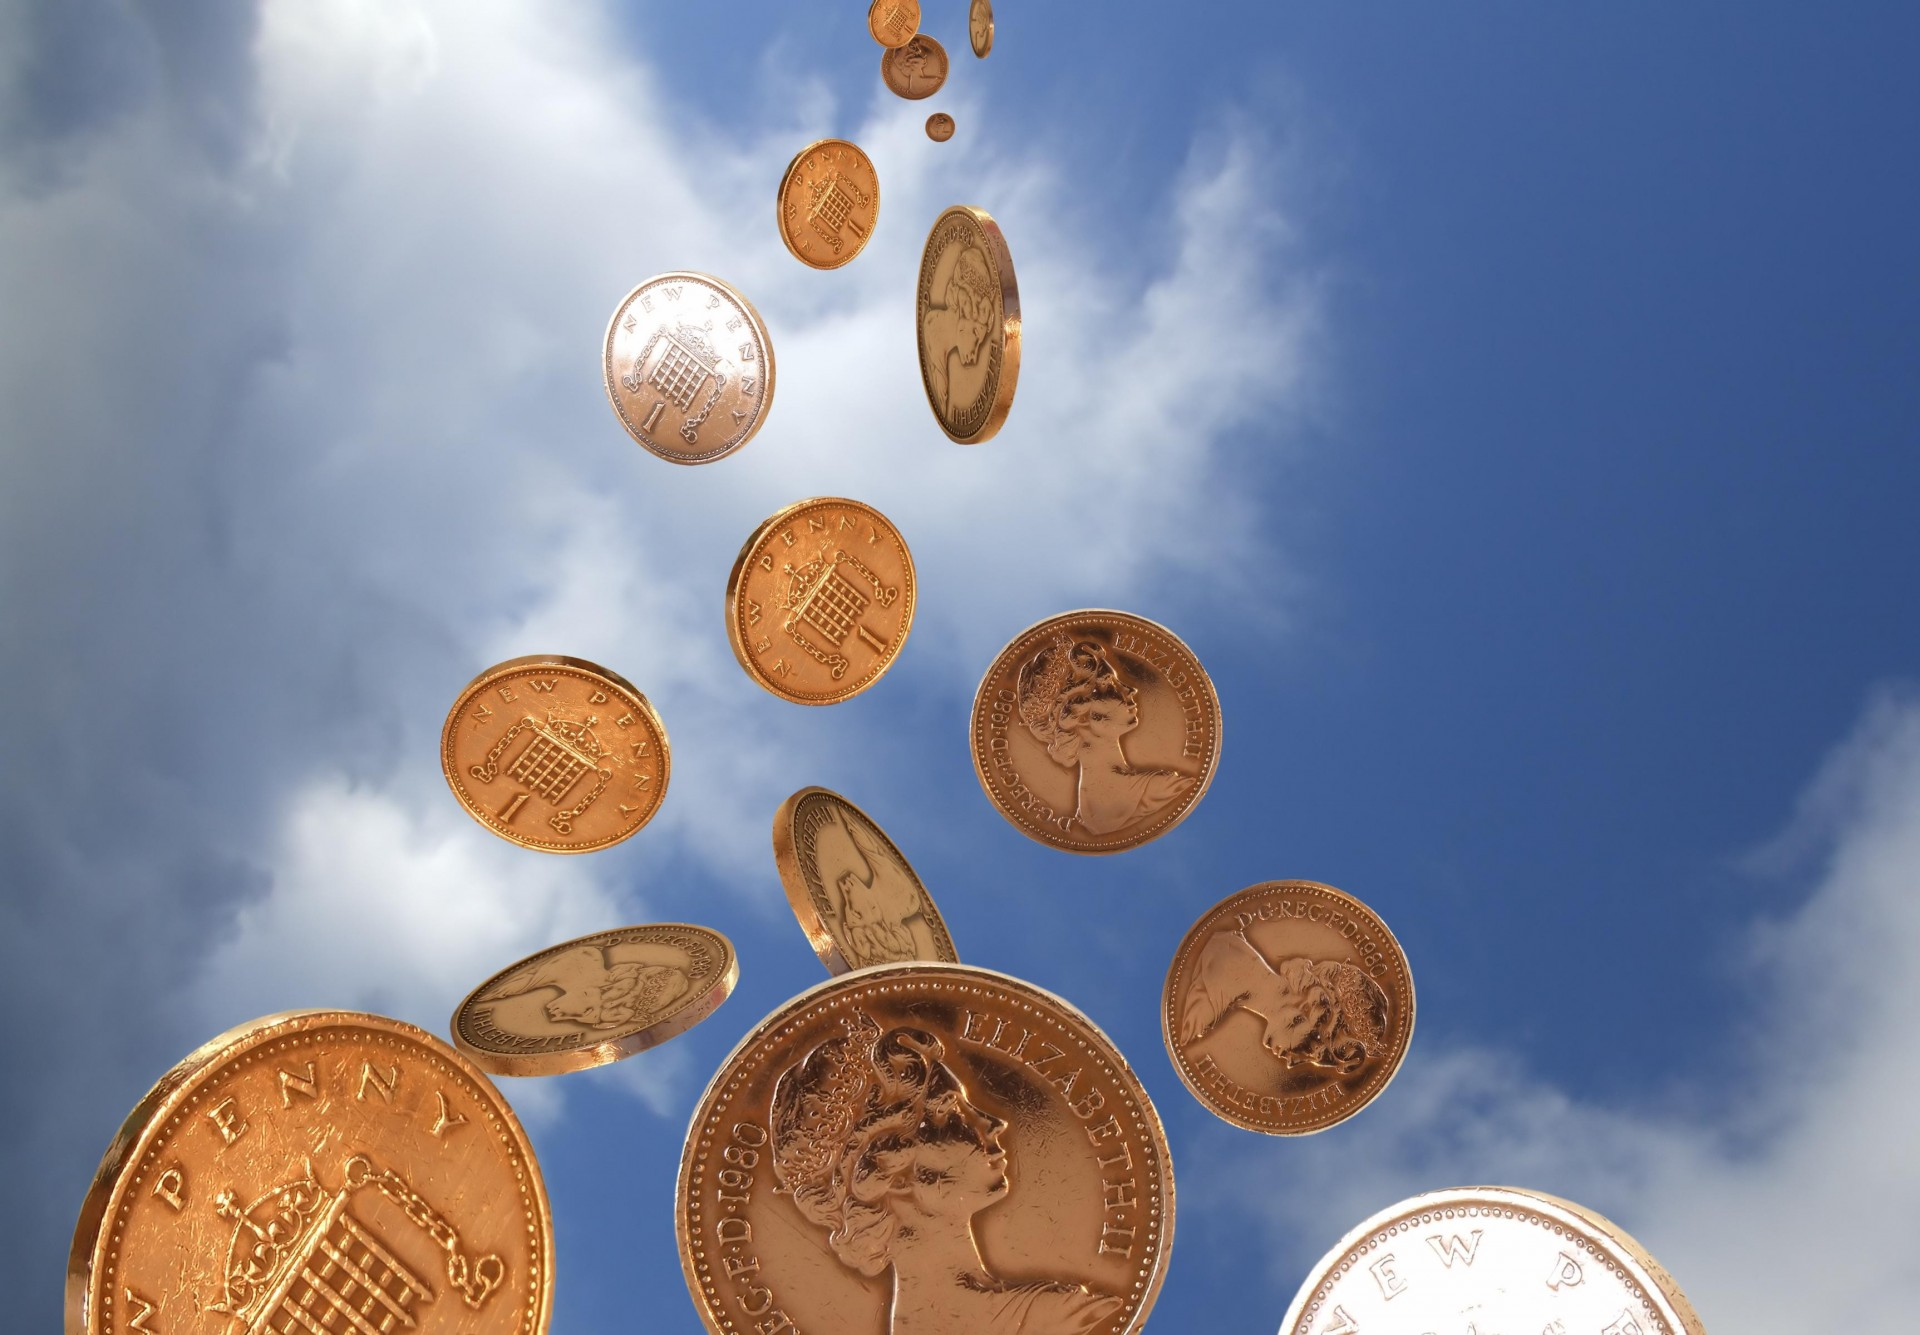coin: (673, 961, 1174, 1335), (63, 1007, 557, 1335), (1158, 875, 1420, 1137), (1274, 1185, 1703, 1335), (969, 605, 1223, 854), (438, 651, 673, 858), (449, 921, 740, 1075), (724, 492, 918, 708), (770, 782, 956, 972), (600, 270, 781, 463), (918, 206, 1021, 445), (776, 139, 880, 268), (880, 35, 948, 101), (867, 1, 921, 47), (967, 1, 995, 58), (924, 112, 954, 142)
